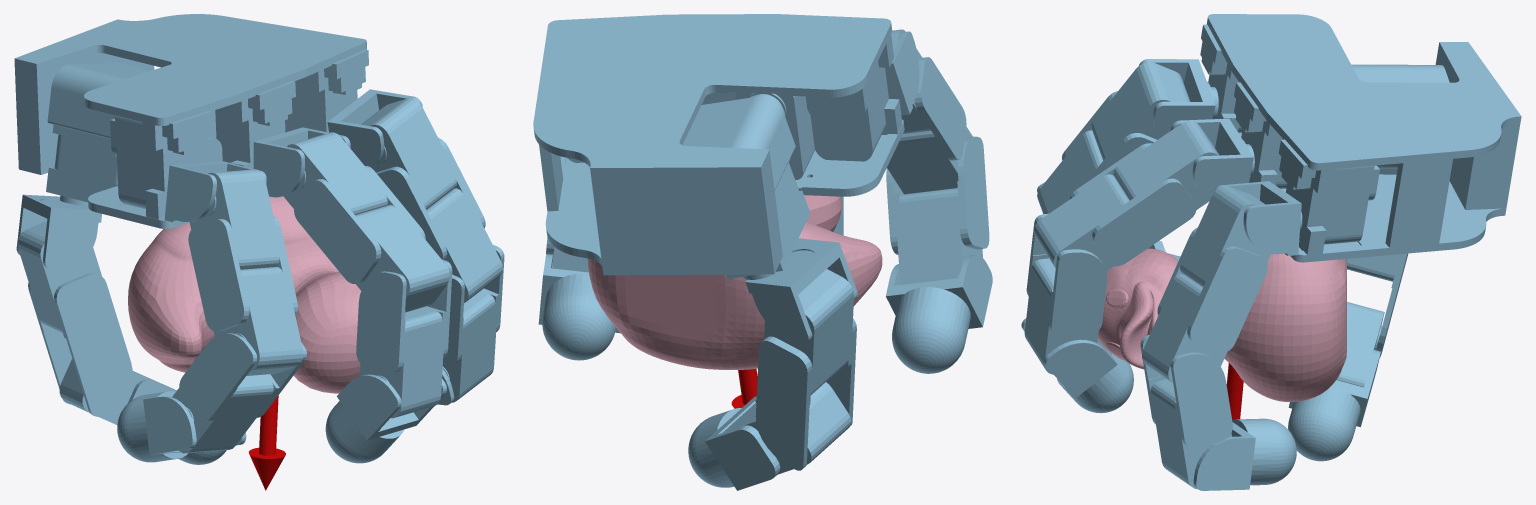
3 views of the same model, side by side, from view 1: azimuth 30°, elevation 25°; view 2: azimuth 150°, elevation 25°; view 3: azimuth 270°, elevation 25° (orthographic). The views are drawn at different scales.
Visible parts, largest first — view 1: world, rubber_duck.stl; view 2: world, rubber_duck.stl; view 3: world, rubber_duck.stl.
Boxes of the visible parts, x1,y1,x2,y2 form: world: [14, 14, 504, 490]; rubber_duck.stl: [128, 196, 360, 393]; world: [533, 14, 992, 490]; rubber_duck.stl: [587, 195, 882, 369]; world: [1021, 14, 1521, 490]; rubber_duck.stl: [1098, 248, 1346, 401].
Size of the model in its own units: 0.1538 by 0.1587 by 0.1806.
